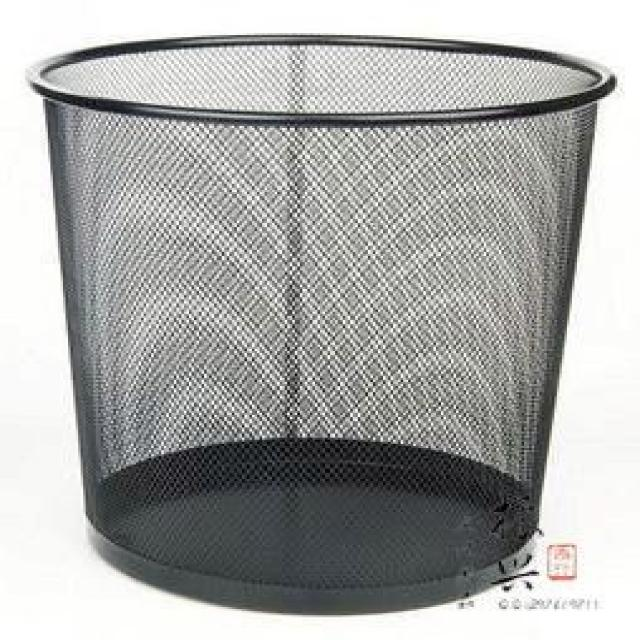dustbin: (20, 27, 621, 624)
